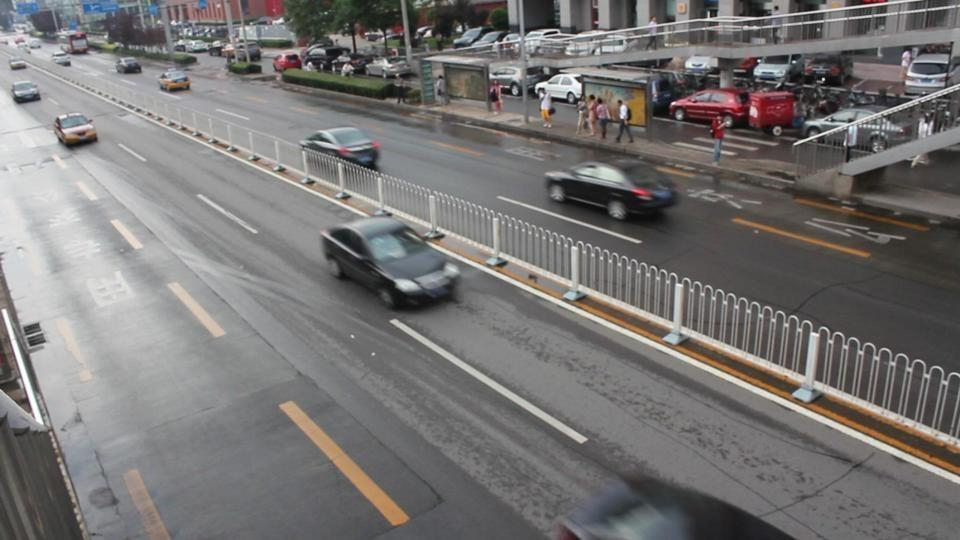car: (319, 215, 462, 310), (542, 160, 678, 222), (800, 108, 907, 149), (299, 127, 383, 171), (670, 89, 750, 126), (903, 47, 960, 97), (490, 65, 554, 98), (750, 52, 806, 88), (450, 28, 520, 51), (52, 113, 98, 146), (535, 74, 584, 103), (158, 68, 193, 92), (272, 52, 304, 73), (11, 81, 41, 103), (114, 57, 142, 74), (51, 53, 72, 66), (9, 59, 27, 71)
